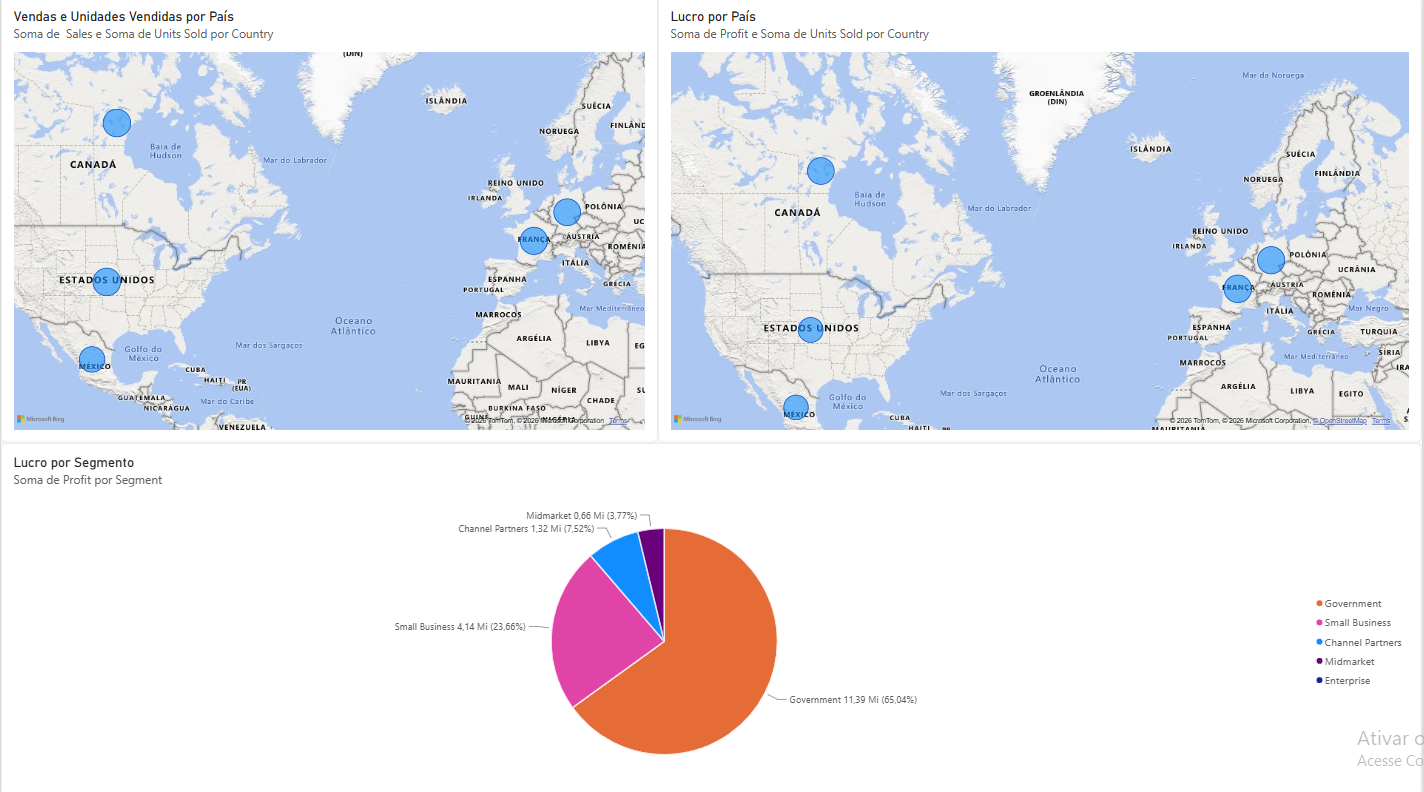

Layout of this report page (visuals, bound fields, positions):
{"tool":"powerbi","page":{"name":"Visão por País e Segmento","canvas":[1920,1080],"ordinal":0},"visuals":[{"type":"map","title":"Vendas e Unidades Vendidas por País","fields":{"Category":["Sheet1.Country"],"Size":["Sum(Sheet1. Sales)"]},"box":[0,0,888.4,602.2],"z":0},{"type":"map","title":"Lucro por País","fields":{"Category":["Sheet1.Country"],"Size":["Sum(Sheet1.Profit)"]},"box":[888.4,0,1031.6,602.2],"z":1},{"type":"pieChart","title":"Lucro por Segmento","fields":{"Category":["Sheet1.Segment"],"Y":["Sum(Sheet1.Profit)"]},"box":[0,602.2,1920,478.5],"z":2}]}

Visuals, with their boxes in screenshot pixels (x1, y1, x2, y2), scaled from the page's 1920x1080 canvas onto the 1424x792 screenshot:
"Vendas e Unidades Vendidas por País" map: BBox(0, 0, 659, 442)
"Lucro por País" map: BBox(659, 0, 1423, 442)
"Lucro por Segmento" pieChart: BBox(0, 442, 1423, 791)
